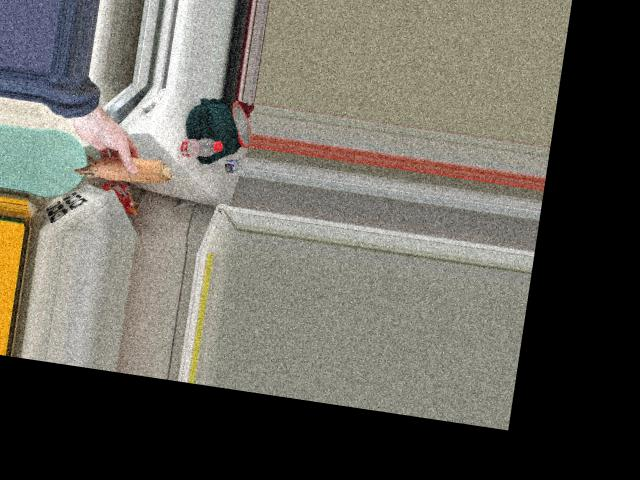sweet_potato: (71, 141, 179, 196)
